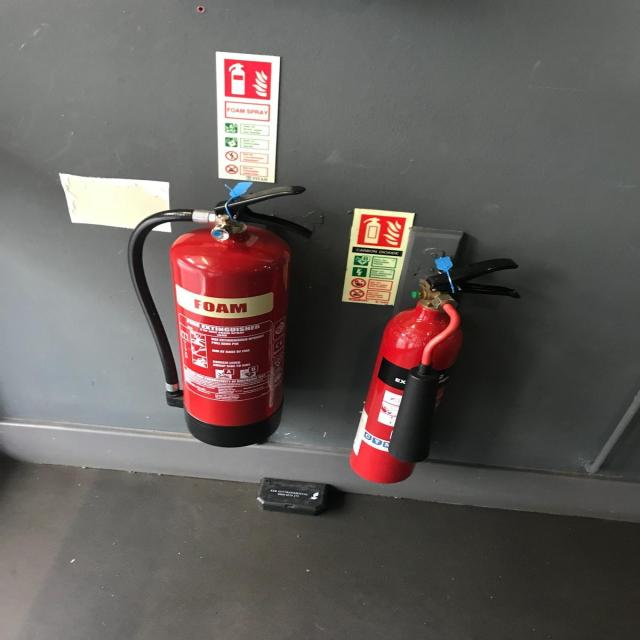fire_extinguisher: (122, 182, 321, 448), (346, 256, 525, 487)
